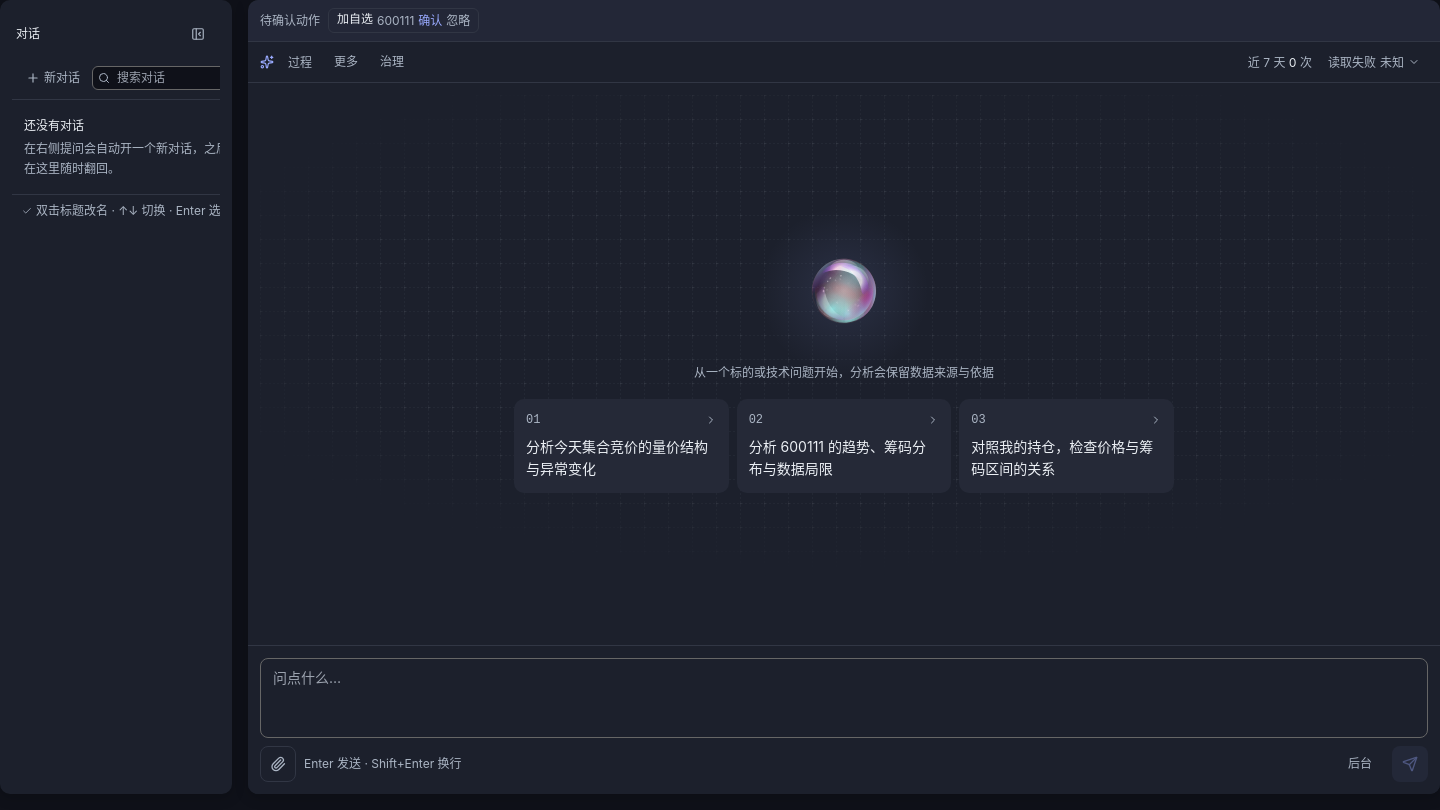
it: 待确认动作 · 提交中禁重 + 失败就地提示 › 确认成功：刷新待确认列表（后端已不再返回 → 整条消失）
This screenshot has width=1440, height=810.
Expected: the element with test id "copilot-pending-actions" is shown, top-left (248, 0), bottom-right (1439, 42)
Click the button "确认". click: (430, 21)
box: top-left (418, 11), bottom-right (442, 30)
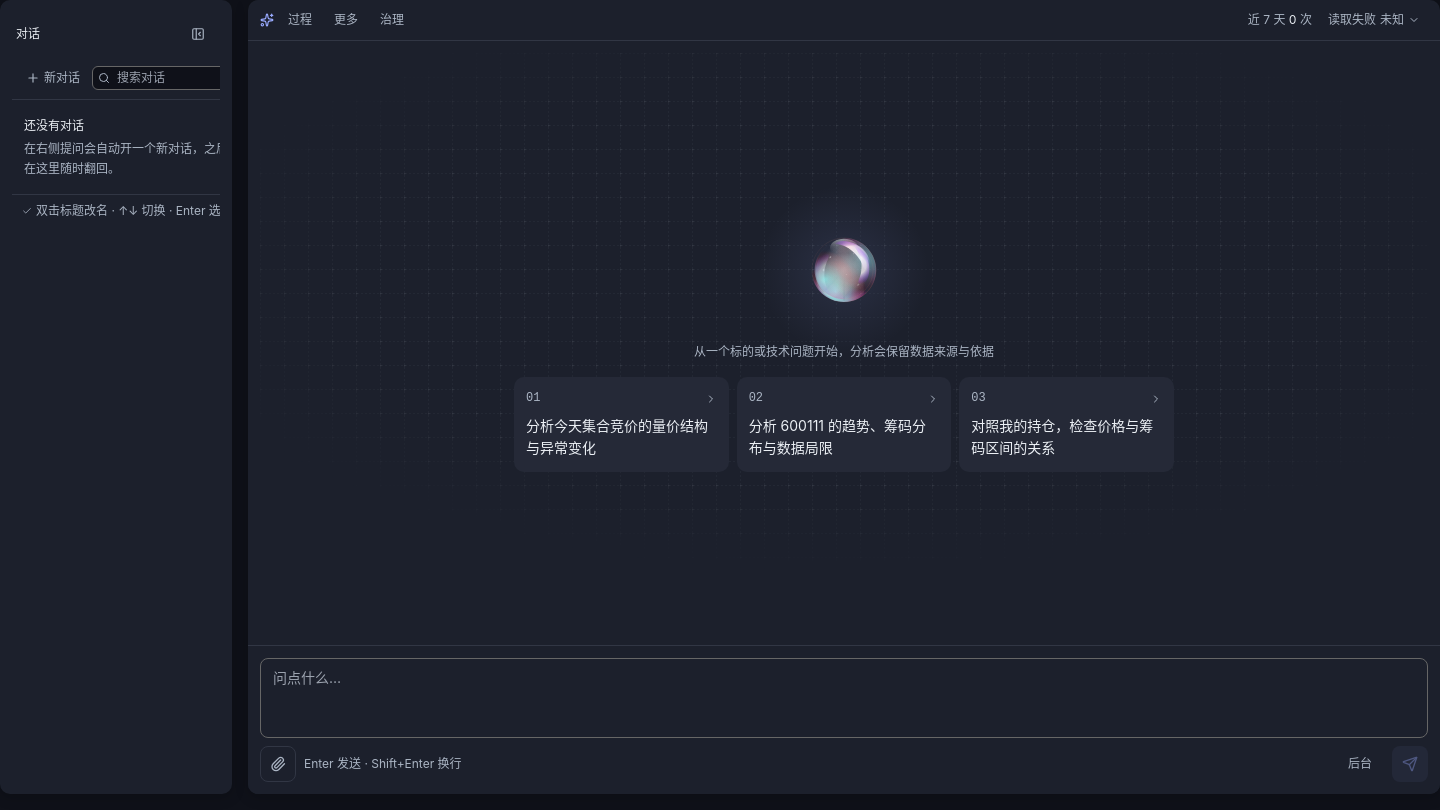
Now the element with test id "copilot-pending-actions" is gone
